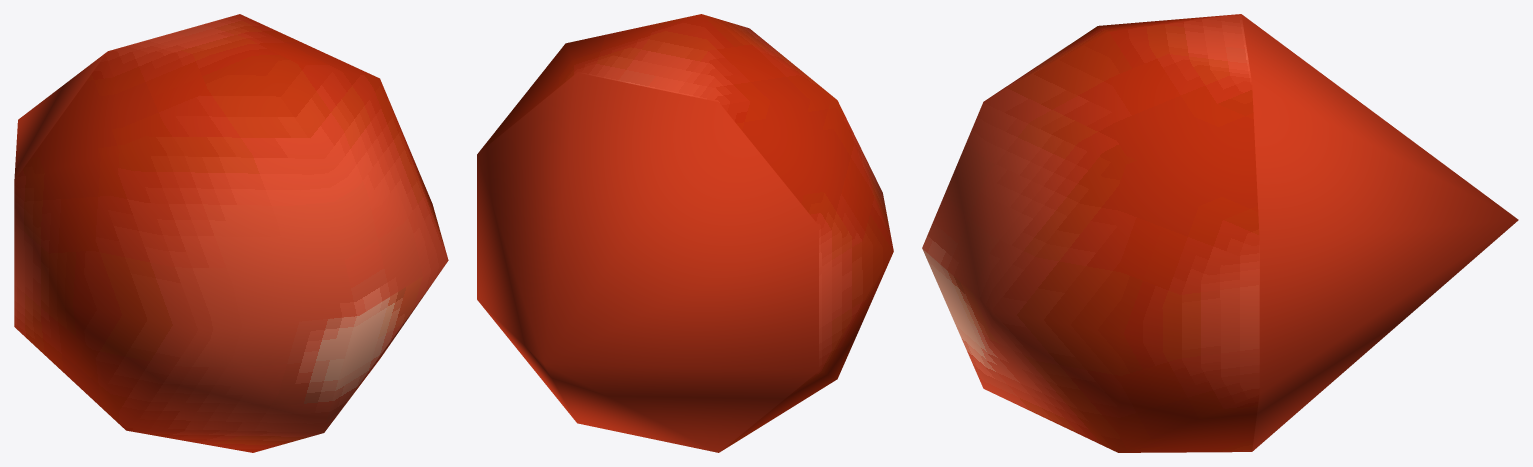
File: acc_nose_red.dae
3 views of the same model, side by side, from view 1: azimuth 30°, elevation 25°; view 2: azimuth 150°, elevation 25°; view 3: azimuth 270°, elevation 25° (orthographic). The views are drawn at different scales.
Visible parts, largest first — view 1: acc_nose_red; view 2: acc_nose_red; view 3: acc_nose_red.
Boxes of the visible parts, x1,y1,x2,y2 form: acc_nose_red: (14, 14, 448, 452); acc_nose_red: (477, 14, 893, 452); acc_nose_red: (922, 14, 1518, 452).
Bounding box in the file's own units: 5.49 × 5.58 × 7.29.
Materials: 1 (1 with a texture image).
